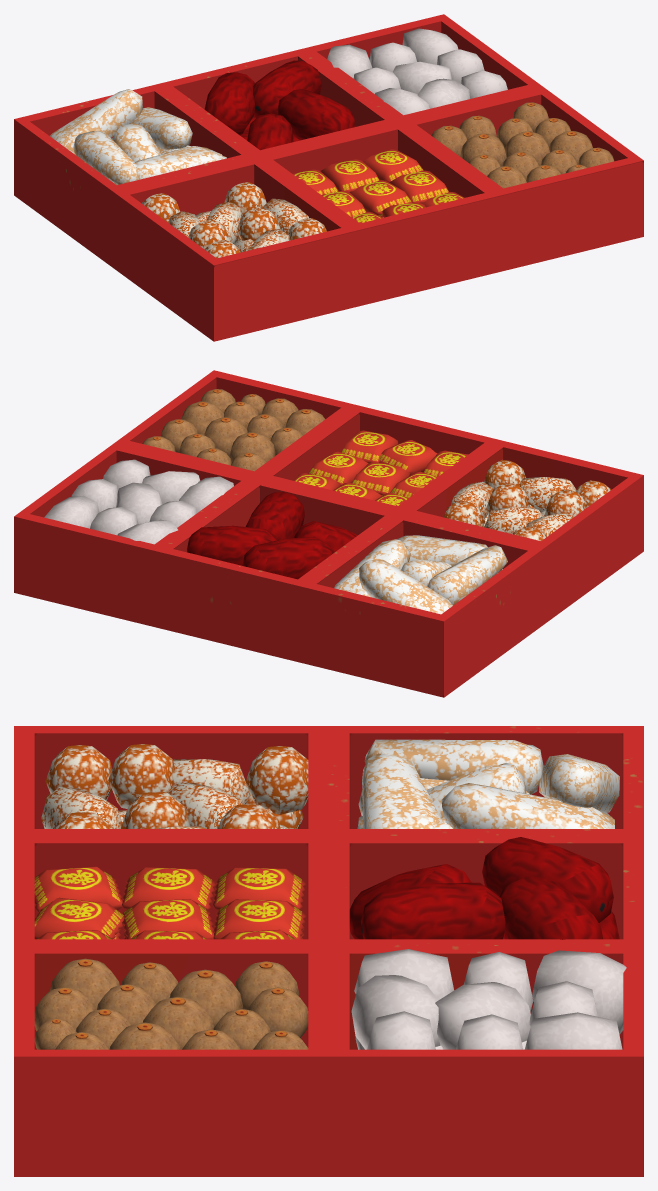
The model's file is SixColor_Candies.fbx.
The picture shows the model from 3 angles, top to bottom: view 1: azimuth 30°, elevation 25°; view 2: azimuth 150°, elevation 25°; view 3: azimuth 270°, elevation 25°; orthographic projection. The views are drawn at different scales.
Visible parts, largest first — view 1: 立方體.033, 立方體.058, 立方體.099, 立方體.057, 立方體.060, 立方體.097, 立方體.096, 立方體.100, 立方體.055, 立方體.111, 立方體.073, 立方體.070 (+34 smaller); view 2: 立方體.033, 立方體.099, 立方體.057, 立方體.097, 立方體.060, 立方體.058, 立方體.100, 立方體.096, 立方體.076, 立方體.109, 立方體.073, 立方體.111 (+34 smaller); view 3: 立方體.033, 立方體.058, 立方體.096, 立方體.057, 立方體.097, 立方體.060, 立方體.100, 立方體.110, 立方體.109, 立方體.113, 立方體.099, 立方體.090 (+37 smaller).
Part boxes in pixels (x1,y1,x2,y2): 立方體.033: [14, 14, 643, 341]; 立方體.058: [277, 89, 355, 140]; 立方體.099: [50, 89, 142, 153]; 立方體.057: [204, 72, 255, 135]; 立方體.060: [253, 60, 321, 117]; 立方體.097: [73, 131, 139, 184]; 立方體.096: [129, 107, 192, 149]; 立方體.100: [134, 146, 222, 179]; 立方體.055: [247, 113, 293, 150]; 立方體.111: [402, 28, 458, 64]; 立方體.073: [350, 180, 412, 217]; 立方體.070: [320, 159, 379, 192]; 立方體.033: [14, 370, 643, 697]; 立方體.099: [359, 559, 452, 614]; 立方體.057: [242, 536, 332, 579]; 立方體.097: [427, 545, 507, 605]; 立方體.060: [187, 525, 276, 565]; 立方體.058: [245, 492, 304, 540]; 立方體.100: [396, 535, 487, 565]; 立方體.096: [334, 539, 410, 597]; 立方體.076: [379, 440, 437, 475]; 立方體.109: [116, 482, 162, 523]; 立方體.073: [352, 462, 409, 495]; 立方體.111: [44, 495, 99, 528]; 立方體.033: [14, 726, 643, 1176]; 立方體.058: [361, 882, 505, 939]; 立方體.096: [442, 783, 614, 828]; 立方體.057: [482, 837, 613, 922]; 立方體.097: [364, 739, 543, 794]; 立方體.060: [499, 876, 602, 939]; 立方體.100: [362, 753, 442, 828]; 立方體.110: [532, 950, 626, 1034]; 立方體.109: [435, 982, 530, 1049]; 立方體.113: [351, 975, 440, 1049]; 立方體.099: [539, 754, 619, 812]; 立方體.090: [245, 746, 308, 814].
Bounding box in the file's own units: 6 × 4.83 × 1.31.
